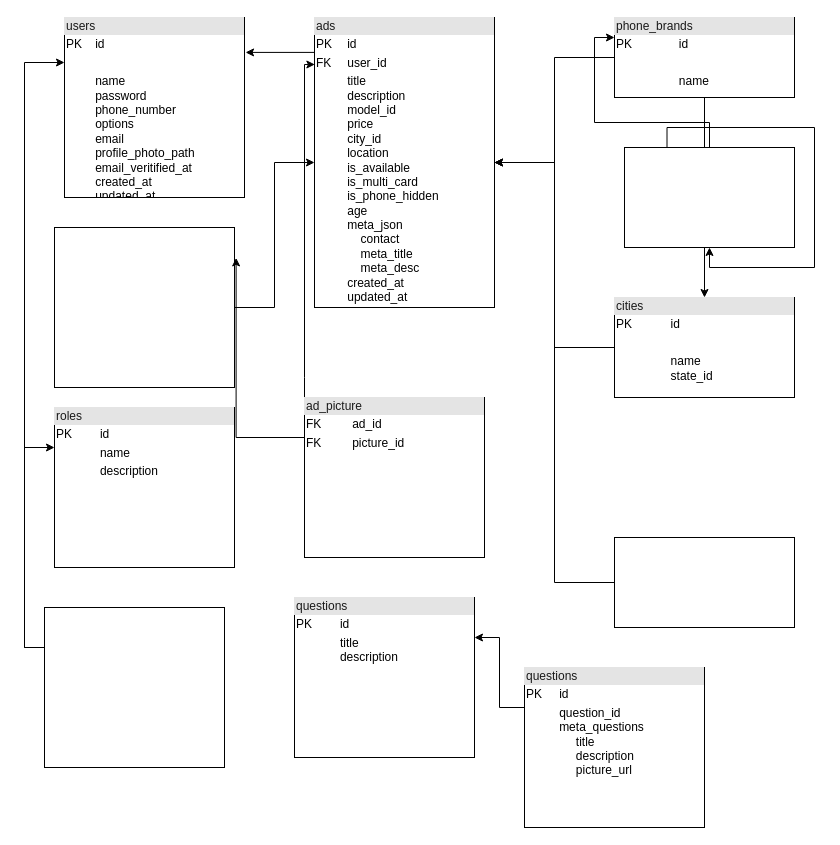
Some shapes in this 840 by 845 pixel diagram are drawn without their labels. Here are the shapes that lost their labels. From the top down, the centre of each, then its label:
the point at 709,197: phone_models PK id name brand_id
the point at 144,307: pictures PK id FK ad_id meta location created_at updated_at
the point at 704,582: ad_contacts PK id FK ad_id name value
the point at 134,687: role_user FK role_id FK user_id
